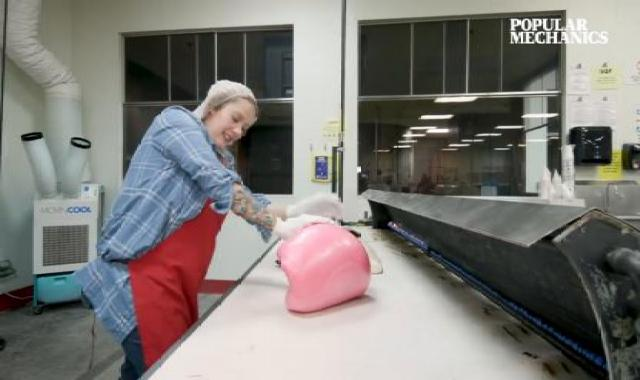hairnet: (183, 73, 273, 136)
